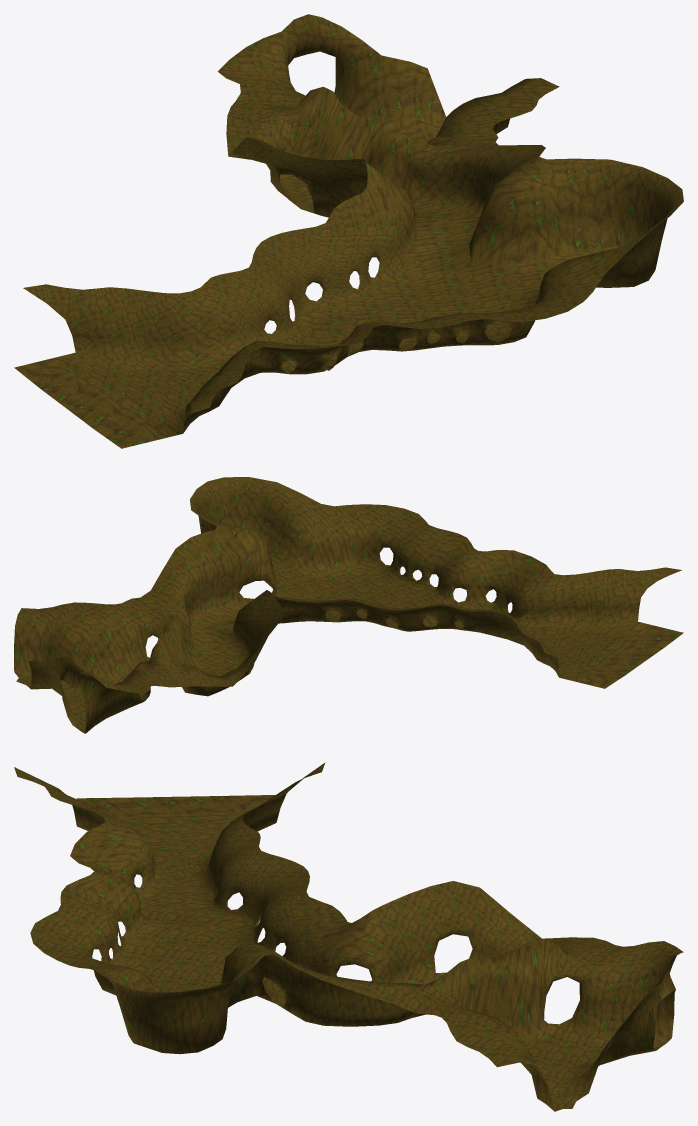
File: MIRKWOOD_AREA4.fbx
3 views of the same model, one above another, from view 1: azimuth 30°, elevation 25°; view 2: azimuth 150°, elevation 25°; view 3: azimuth 270°, elevation 25° (orthographic). The views are drawn at different scales.
Parts seen in each view (by area): view 1: MIRKWOOD_AREA4; view 2: MIRKWOOD_AREA4; view 3: MIRKWOOD_AREA4.
Part boxes in pixels (bbox=[...]): MIRKWOOD_AREA4: bbox=[14, 14, 683, 448]; MIRKWOOD_AREA4: bbox=[14, 477, 683, 733]; MIRKWOOD_AREA4: bbox=[14, 762, 683, 1111].
Size of the model in its own units: 781618 by 126718 by 729914.
Materials: 1 (1 with a texture image).
